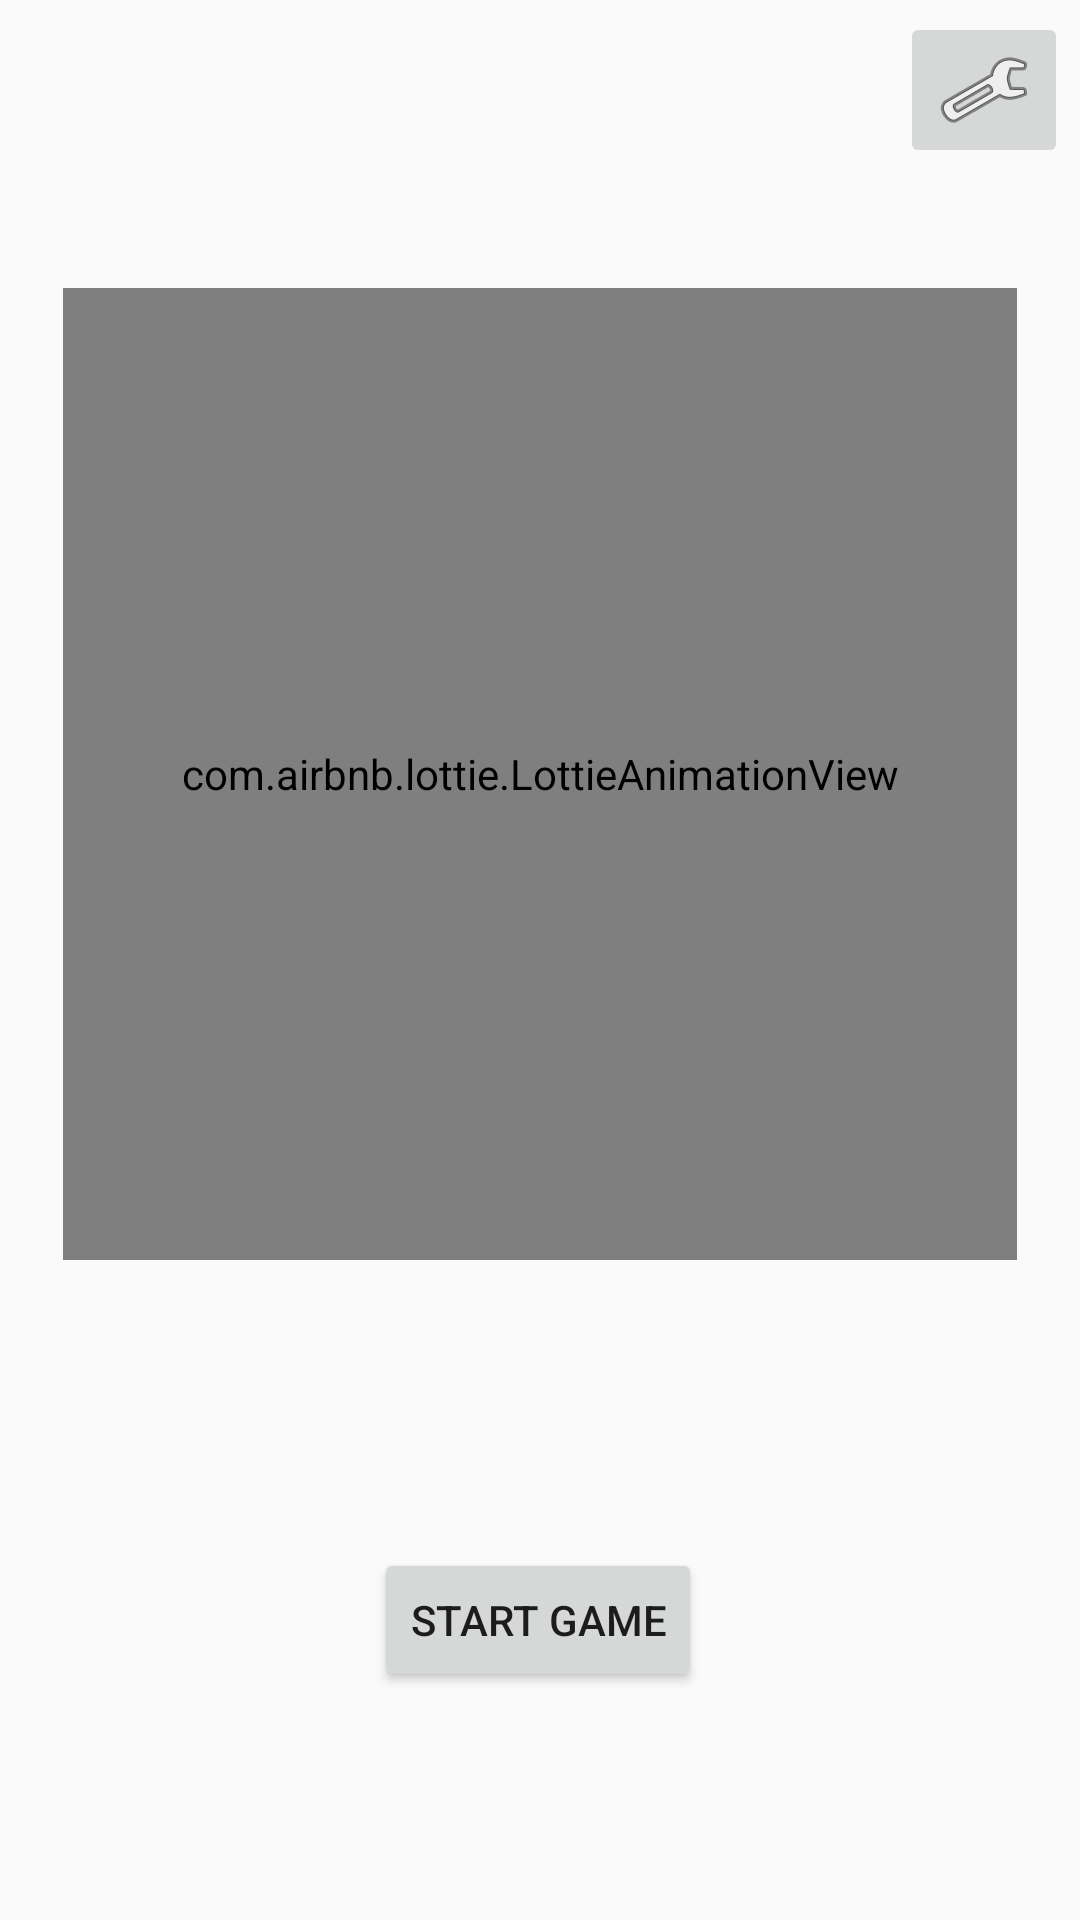

Icons on this 1080×1920 Android screen, each with the point to tap as (x,y):
preferences: (984,90)
